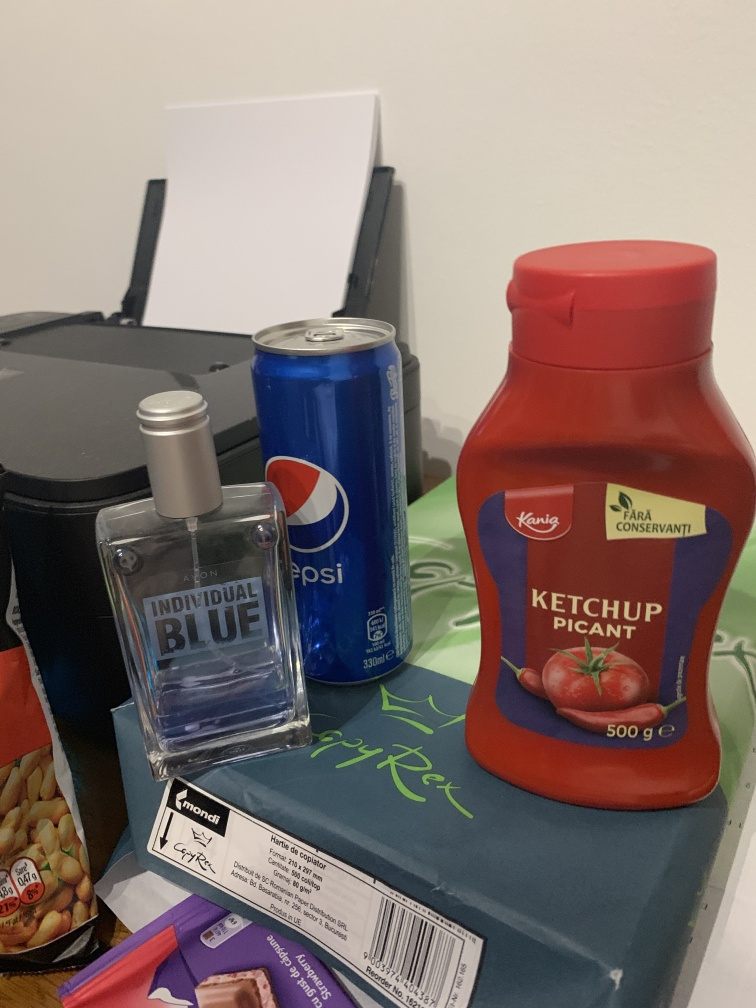ketchup: (449, 231, 756, 817)
milka: (45, 877, 389, 1008)
peanuts: (1, 492, 112, 986)
pepsi: (247, 316, 421, 693)
